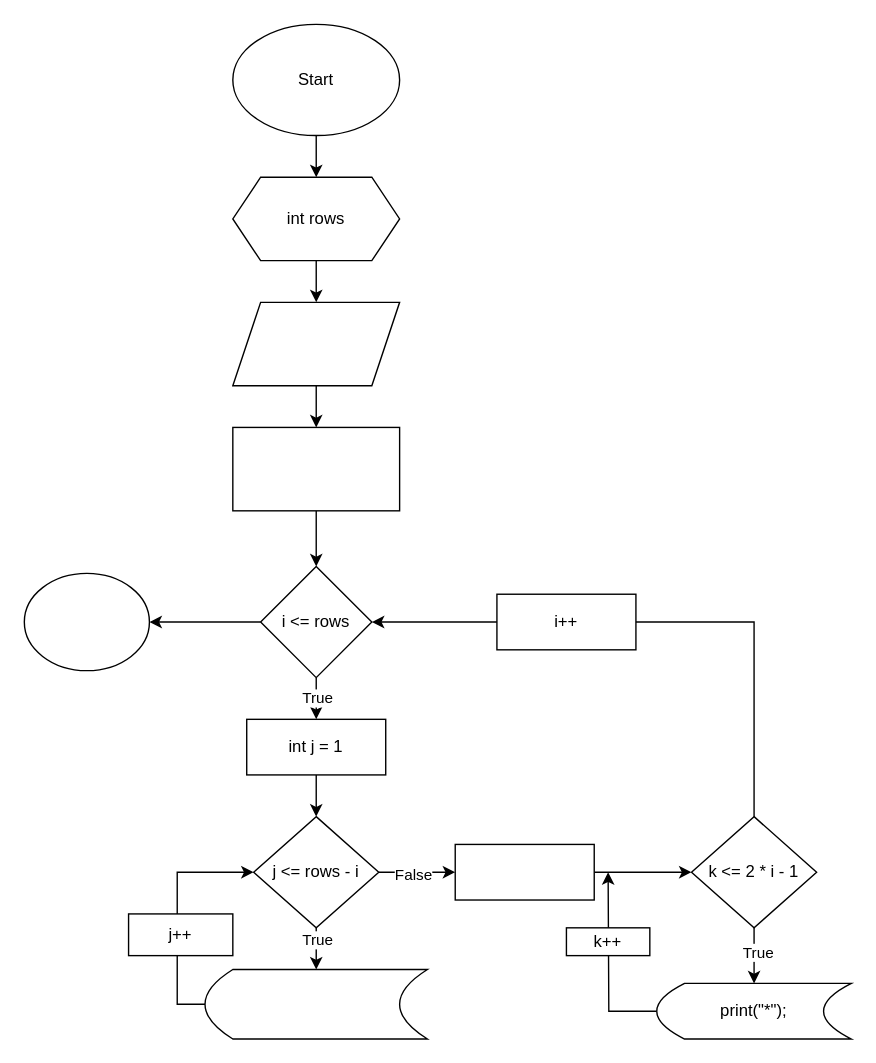
Some shapes in this 876 by 1063 pixel diagram are drawn without their labels. Each missing label, with the box of its shape:
End: (23, 572, 149, 671)
i=1: (231, 426, 400, 511)
input rows: (231, 301, 400, 386)
int k = 1: (454, 843, 594, 900)
System.out.print(" ");: (204, 968, 427, 1039)
